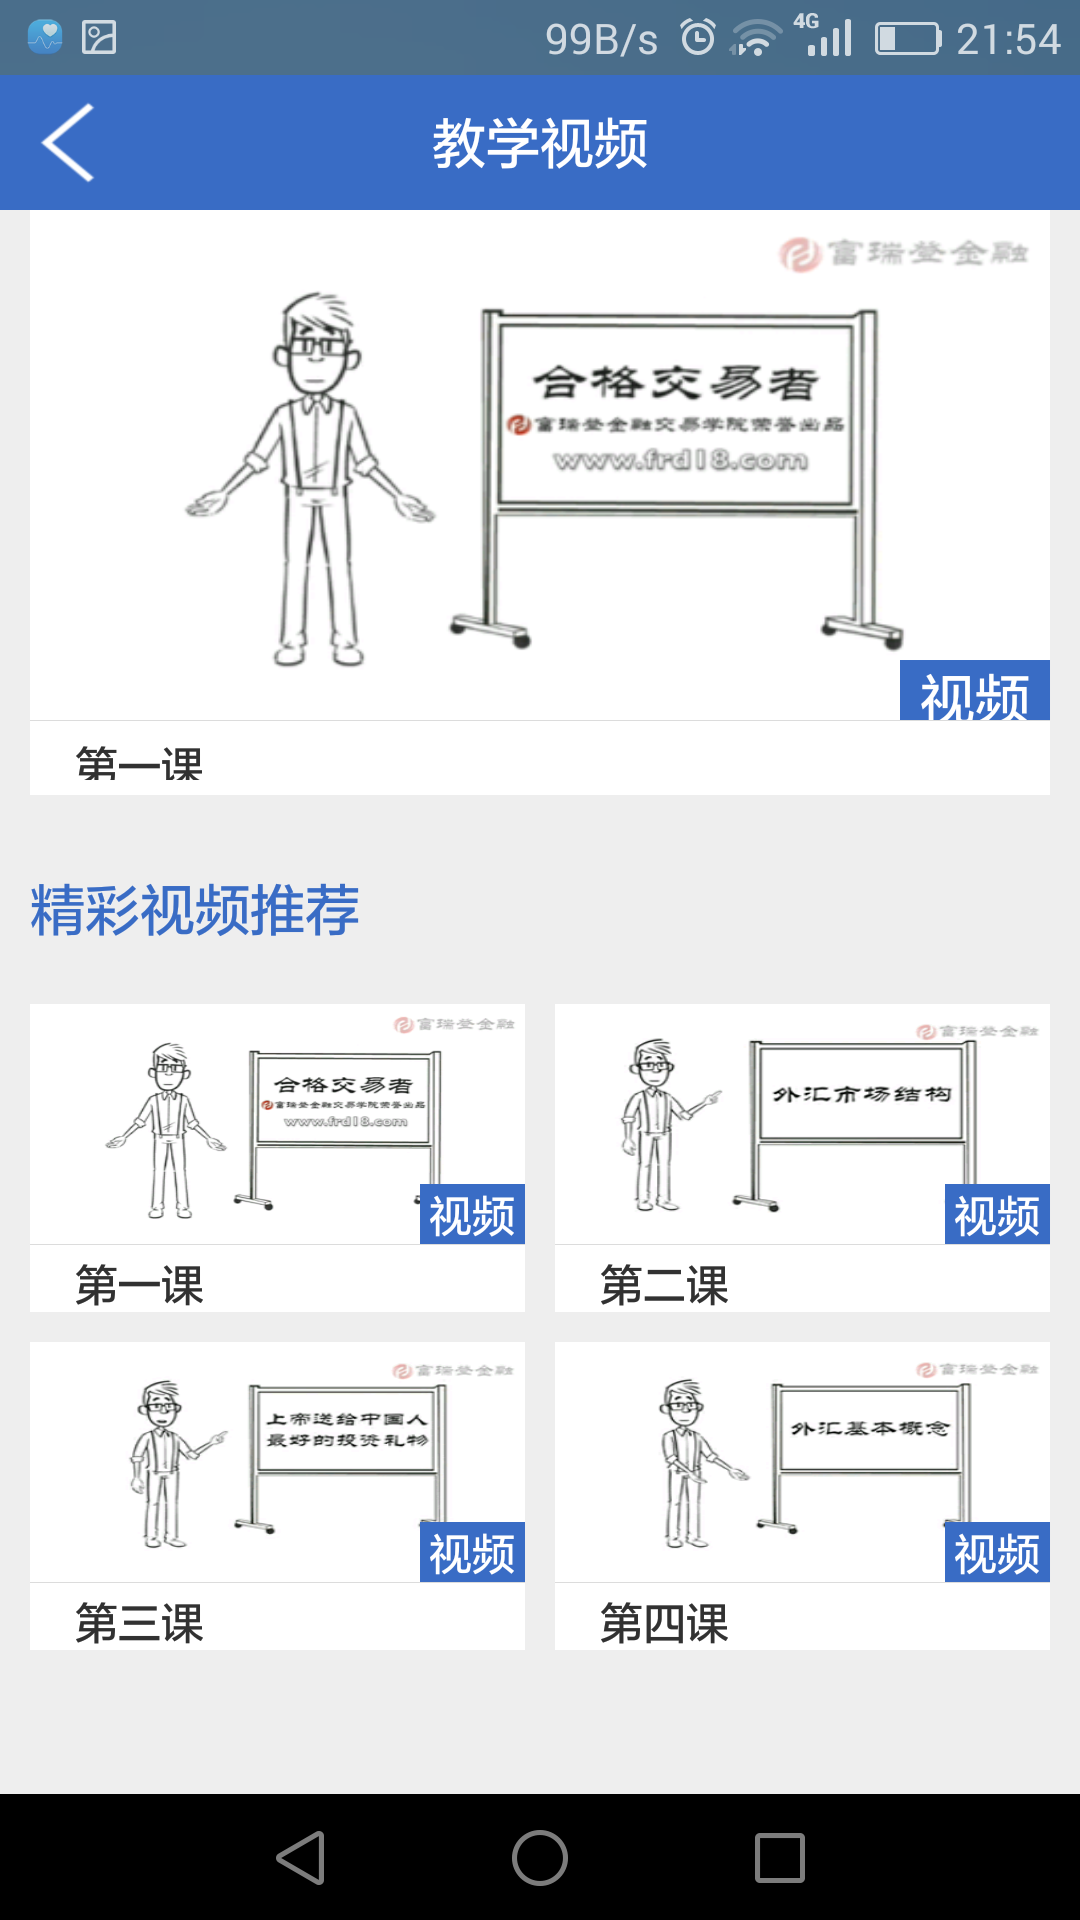imgview: (24, 994, 535, 1321)
textview: (26, 868, 369, 947)
